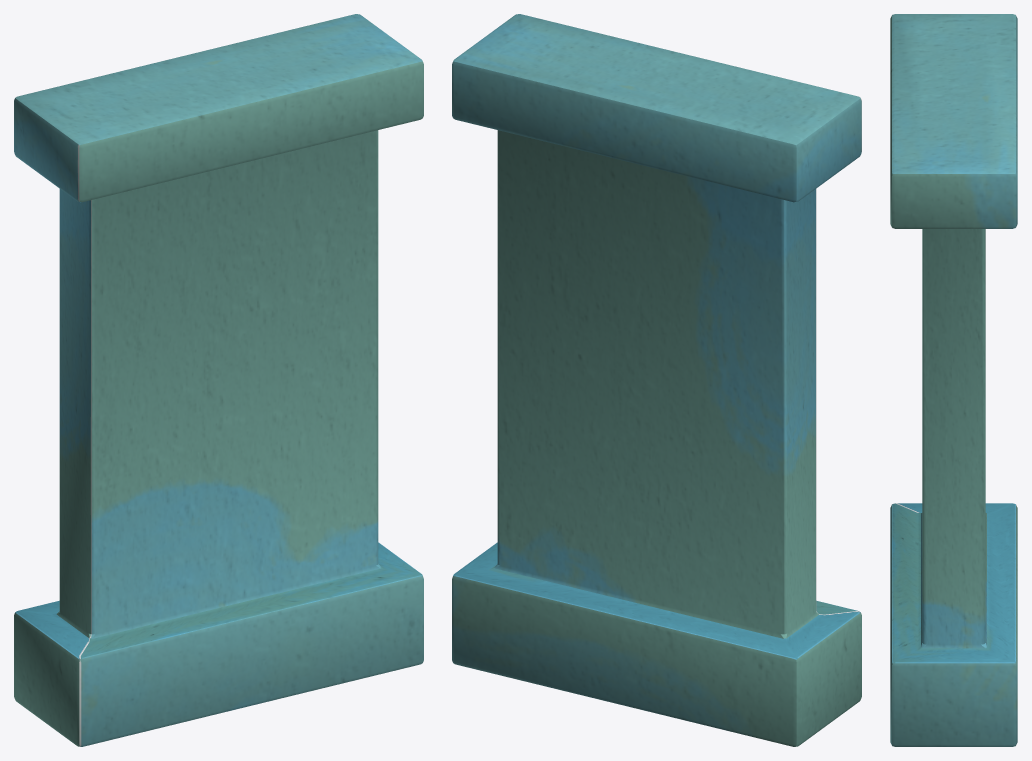
Rendered from TOMB_WALL_1_2.obj.
The picture shows the model from 3 angles, left to right: view 1: azimuth 30°, elevation 25°; view 2: azimuth 150°, elevation 25°; view 3: azimuth 270°, elevation 25°; orthographic projection. The views are drawn at different scales.
Visible parts, largest first — view 1: TOMB_WALL_1_2.001; view 2: TOMB_WALL_1_2.001; view 3: TOMB_WALL_1_2.001.
Part boxes in pixels (x1=…): TOMB_WALL_1_2.001: x1=14, y1=14, x2=423, y2=746; TOMB_WALL_1_2.001: x1=452, y1=14, x2=861, y2=746; TOMB_WALL_1_2.001: x1=890, y1=14, x2=1017, y2=746.
Bounding box in the file's own units: 1.2 × 2 × 0.4.
